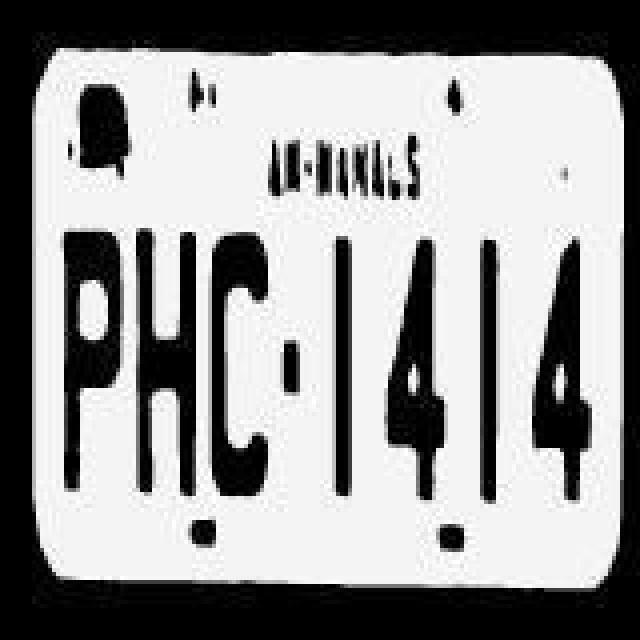1: (312, 220, 360, 500), (466, 228, 510, 524)
4: (524, 232, 596, 528), (378, 240, 454, 512)
C: (202, 218, 278, 510)
H: (126, 208, 202, 504)
P: (56, 210, 136, 510)
